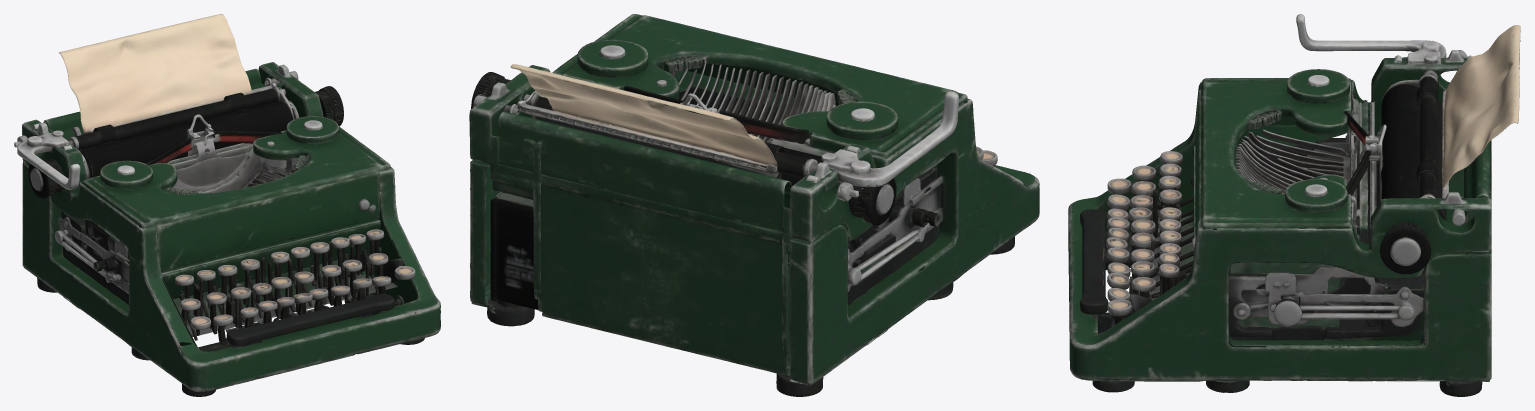
File: typer.glb
3 views of the same model, side by side, from view 1: azimuth 30°, elevation 25°; view 2: azimuth 150°, elevation 25°; view 3: azimuth 270°, elevation 25° (orthographic). The views are drawn at different scales.
Parts seen in each view (by area): view 1: world; view 2: world; view 3: world.
Part boxes in pixels (<box>): world: <box>14,14,440,396</box>; world: <box>469,14,1039,396</box>; world: <box>1068,14,1520,396</box>.
Size of the model in its own units: 0.9617 by 0.6179 by 0.9981.
Materials: 1 (1 with a texture image).
